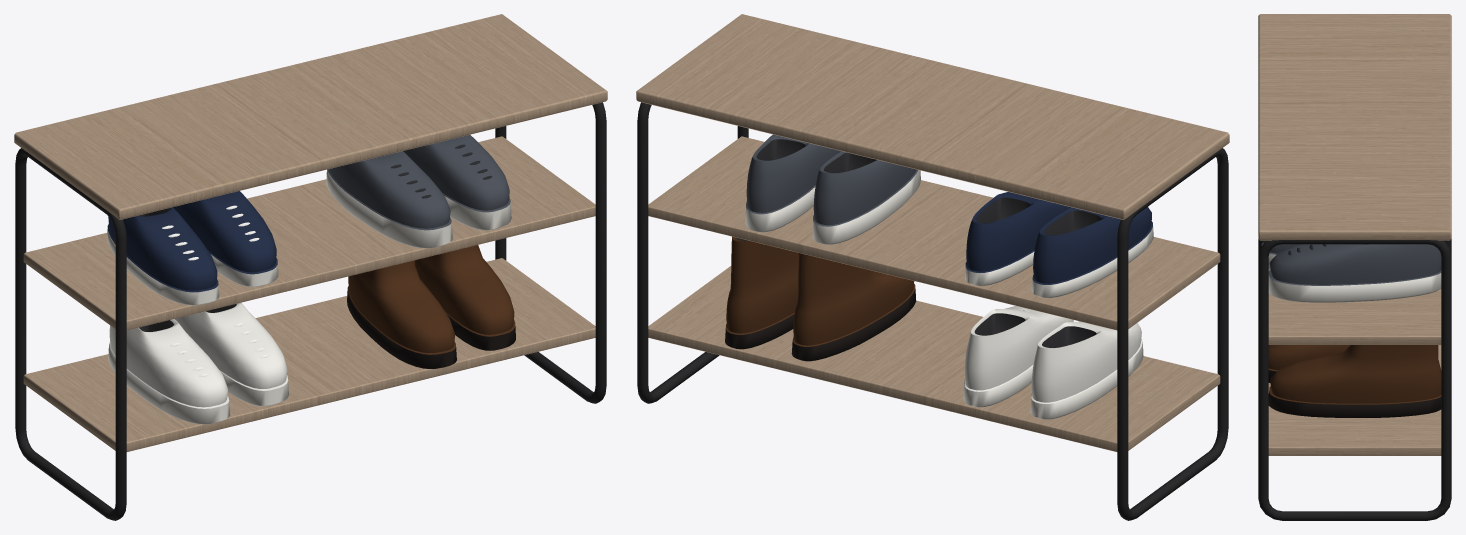
Rendered from shoe_rack.glb.
3 views of the same model, side by side, from view 1: azimuth 30°, elevation 25°; view 2: azimuth 150°, elevation 25°; view 3: azimuth 270°, elevation 25° (orthographic). The views are drawn at different scales.
Visible parts, largest first — view 1: shoe_rack; view 2: shoe_rack; view 3: shoe_rack.
Part boxes in pixels (x1,y1,x2,y2): shoe_rack: [14, 14, 607, 520]; shoe_rack: [636, 14, 1229, 520]; shoe_rack: [1258, 14, 1451, 520].
Bounding box in the file's own units: 0.8 × 0.5 × 0.3.
Materials: 11 (1 with a texture image).
